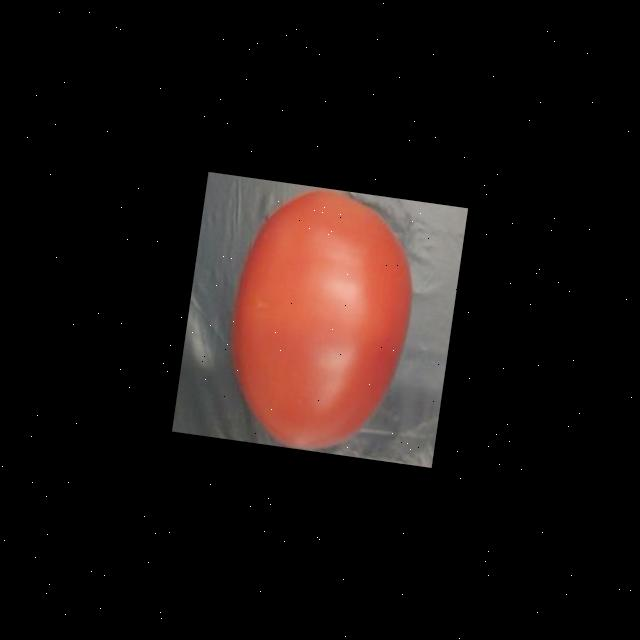tomato: (208, 178, 430, 462)
